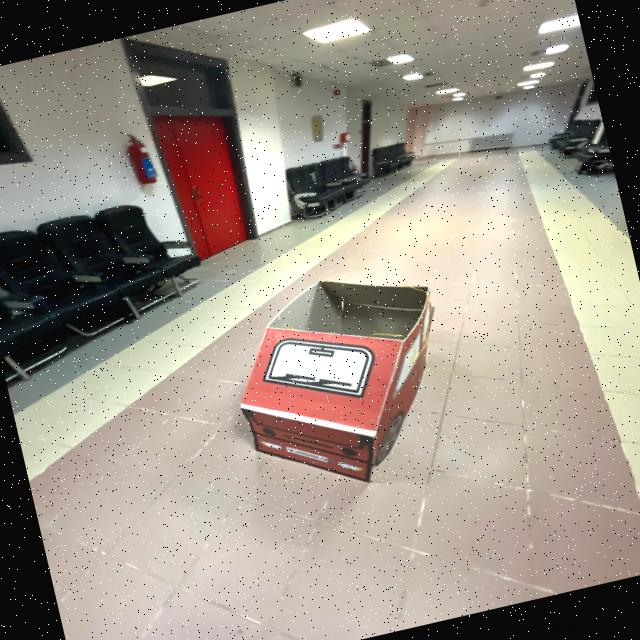red_car: (191, 242, 506, 526)
